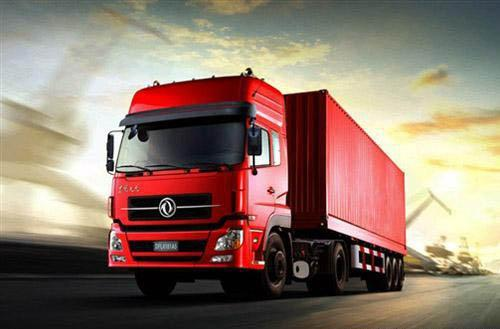truck: (98, 65, 412, 298)
